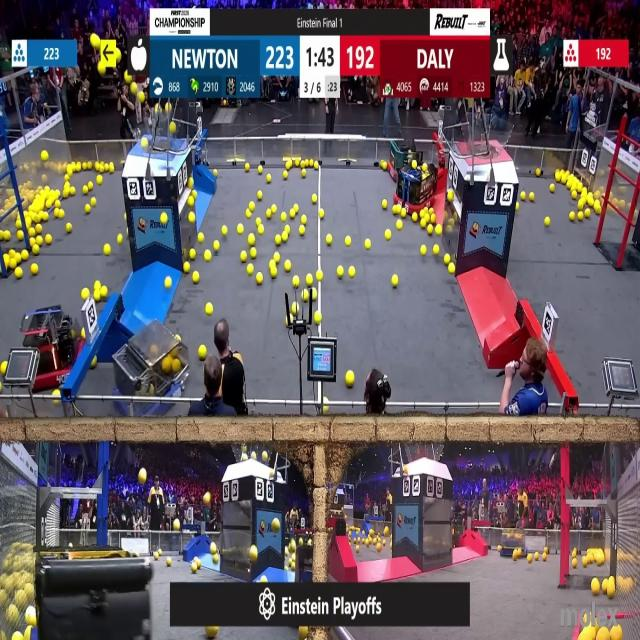ball_airborne: (92, 34, 101, 48), (140, 468, 148, 483), (273, 519, 281, 532), (205, 492, 212, 505), (173, 520, 180, 532), (171, 123, 177, 135), (132, 85, 138, 96), (140, 92, 145, 104), (42, 150, 48, 160), (142, 139, 148, 148), (264, 452, 270, 461), (123, 73, 128, 83), (155, 104, 158, 112)
ball_ground: (346, 371, 356, 388), (199, 345, 208, 360), (592, 580, 600, 596), (607, 586, 614, 600), (315, 312, 322, 325), (1, 360, 8, 373), (81, 288, 89, 299), (420, 245, 428, 256), (31, 265, 38, 277), (255, 273, 262, 285), (448, 188, 455, 200), (206, 304, 213, 316), (307, 274, 314, 286), (311, 288, 318, 300), (101, 286, 108, 298), (57, 209, 65, 219), (348, 268, 356, 278), (596, 202, 602, 215), (435, 223, 442, 234), (188, 249, 195, 260), (292, 276, 299, 287), (304, 289, 311, 300), (213, 241, 220, 252), (210, 542, 217, 553), (338, 267, 345, 278), (188, 212, 195, 223), (183, 263, 189, 275), (192, 272, 198, 284), (166, 277, 172, 289), (15, 269, 22, 279), (432, 245, 439, 255), (198, 234, 205, 244), (392, 206, 399, 216), (246, 266, 253, 276), (445, 254, 452, 264), (22, 250, 29, 260), (284, 262, 291, 272), (248, 235, 255, 245), (45, 200, 52, 210), (205, 250, 212, 260), (105, 244, 111, 255), (97, 174, 103, 185), (250, 248, 256, 259), (272, 268, 278, 279), (577, 199, 583, 210), (390, 277, 396, 288), (102, 244, 109, 253), (302, 215, 309, 224), (550, 183, 557, 192), (450, 265, 456, 275), (33, 245, 39, 255), (346, 237, 352, 247), (385, 230, 391, 240), (429, 214, 435, 224), (392, 276, 397, 288), (241, 251, 247, 261), (276, 235, 282, 245), (325, 235, 331, 245), (289, 209, 295, 219), (55, 200, 62, 208), (83, 205, 90, 213), (310, 196, 317, 204), (69, 187, 76, 195), (93, 357, 98, 368), (16, 232, 22, 241), (256, 190, 262, 199), (312, 193, 318, 202), (569, 211, 575, 220), (66, 223, 72, 232), (396, 219, 402, 228), (238, 224, 244, 233), (382, 201, 388, 210), (588, 198, 594, 207), (586, 208, 591, 218), (319, 209, 324, 219), (186, 265, 191, 275), (428, 224, 433, 234), (299, 225, 304, 235), (9, 260, 14, 270), (283, 234, 288, 244), (281, 212, 287, 220), (263, 575, 269, 583), (9, 249, 15, 257), (527, 554, 533, 562), (45, 236, 51, 244), (534, 554, 540, 562), (598, 556, 604, 564), (221, 226, 227, 234), (529, 191, 534, 200), (400, 209, 405, 218), (215, 239, 220, 248), (577, 211, 582, 220), (64, 188, 69, 197), (572, 189, 577, 198), (258, 225, 263, 234), (292, 304, 296, 315), (413, 213, 419, 220), (95, 281, 101, 288), (257, 167, 262, 175), (544, 216, 548, 226), (43, 212, 48, 220), (324, 406, 328, 416), (314, 163, 319, 171), (250, 202, 254, 212), (272, 205, 277, 213), (572, 558, 576, 568), (83, 184, 87, 194), (268, 209, 272, 219), (557, 172, 561, 182), (384, 527, 389, 535), (56, 188, 61, 196), (377, 543, 382, 551), (268, 174, 272, 183), (93, 198, 97, 207), (80, 328, 84, 337), (284, 224, 288, 233), (55, 398, 61, 404), (608, 575, 614, 581), (256, 217, 261, 224), (522, 191, 526, 199), (168, 558, 172, 566), (536, 169, 540, 177), (90, 181, 94, 189), (191, 564, 195, 572), (284, 172, 288, 180), (327, 408, 331, 416), (154, 553, 158, 560), (517, 204, 521, 211), (583, 616, 587, 622), (244, 163, 247, 169), (200, 562, 202, 568), (246, 212, 248, 218)
goal: (460, 117, 515, 158), (124, 116, 182, 151)
robot_blue: (116, 328, 190, 418), (497, 527, 526, 557)
robot_red: (29, 308, 84, 371), (394, 150, 438, 212)
